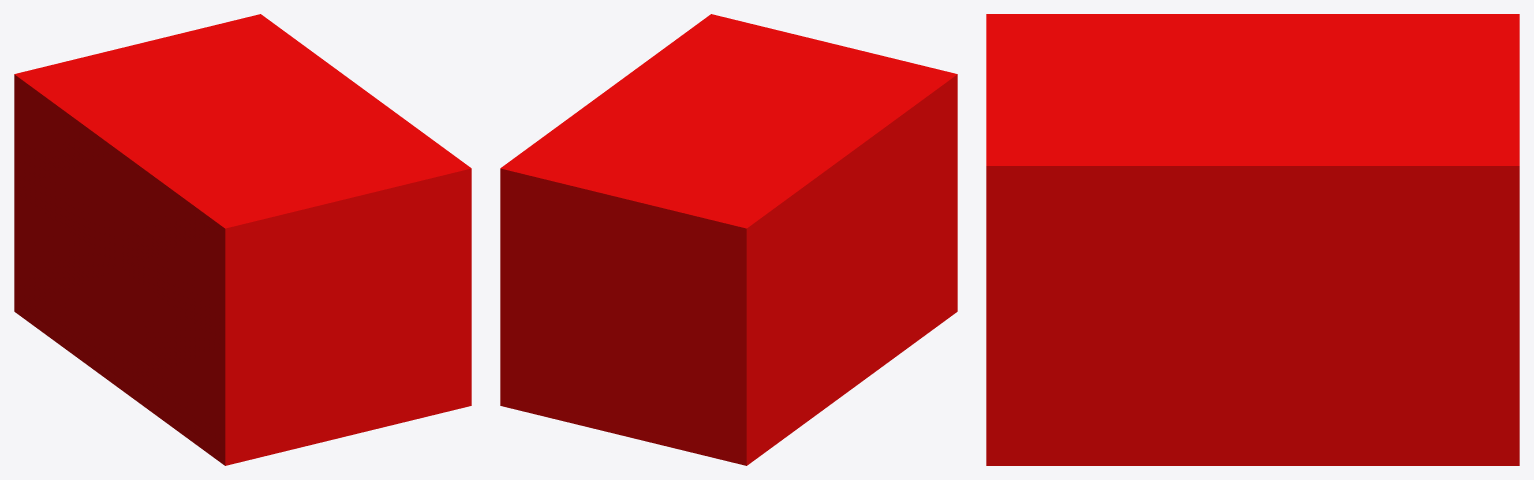
File: scapula_lv_col.dae
3 renders of one model, left to right at view 1: azimuth 30°, elevation 25°; view 2: azimuth 150°, elevation 25°; view 3: azimuth 270°, elevation 25°, orthographic. The views are drawn at different scales.
Parts seen in each view (by area): view 1: node0; view 2: node0; view 3: node0.
Boxes of the visible parts, bbox=[...] form: node0: bbox=[14, 14, 471, 465]; node0: bbox=[500, 14, 957, 465]; node0: bbox=[986, 14, 1519, 465].
Size of the model in its own units: 0.1336 by 0.1229 by 0.198.
